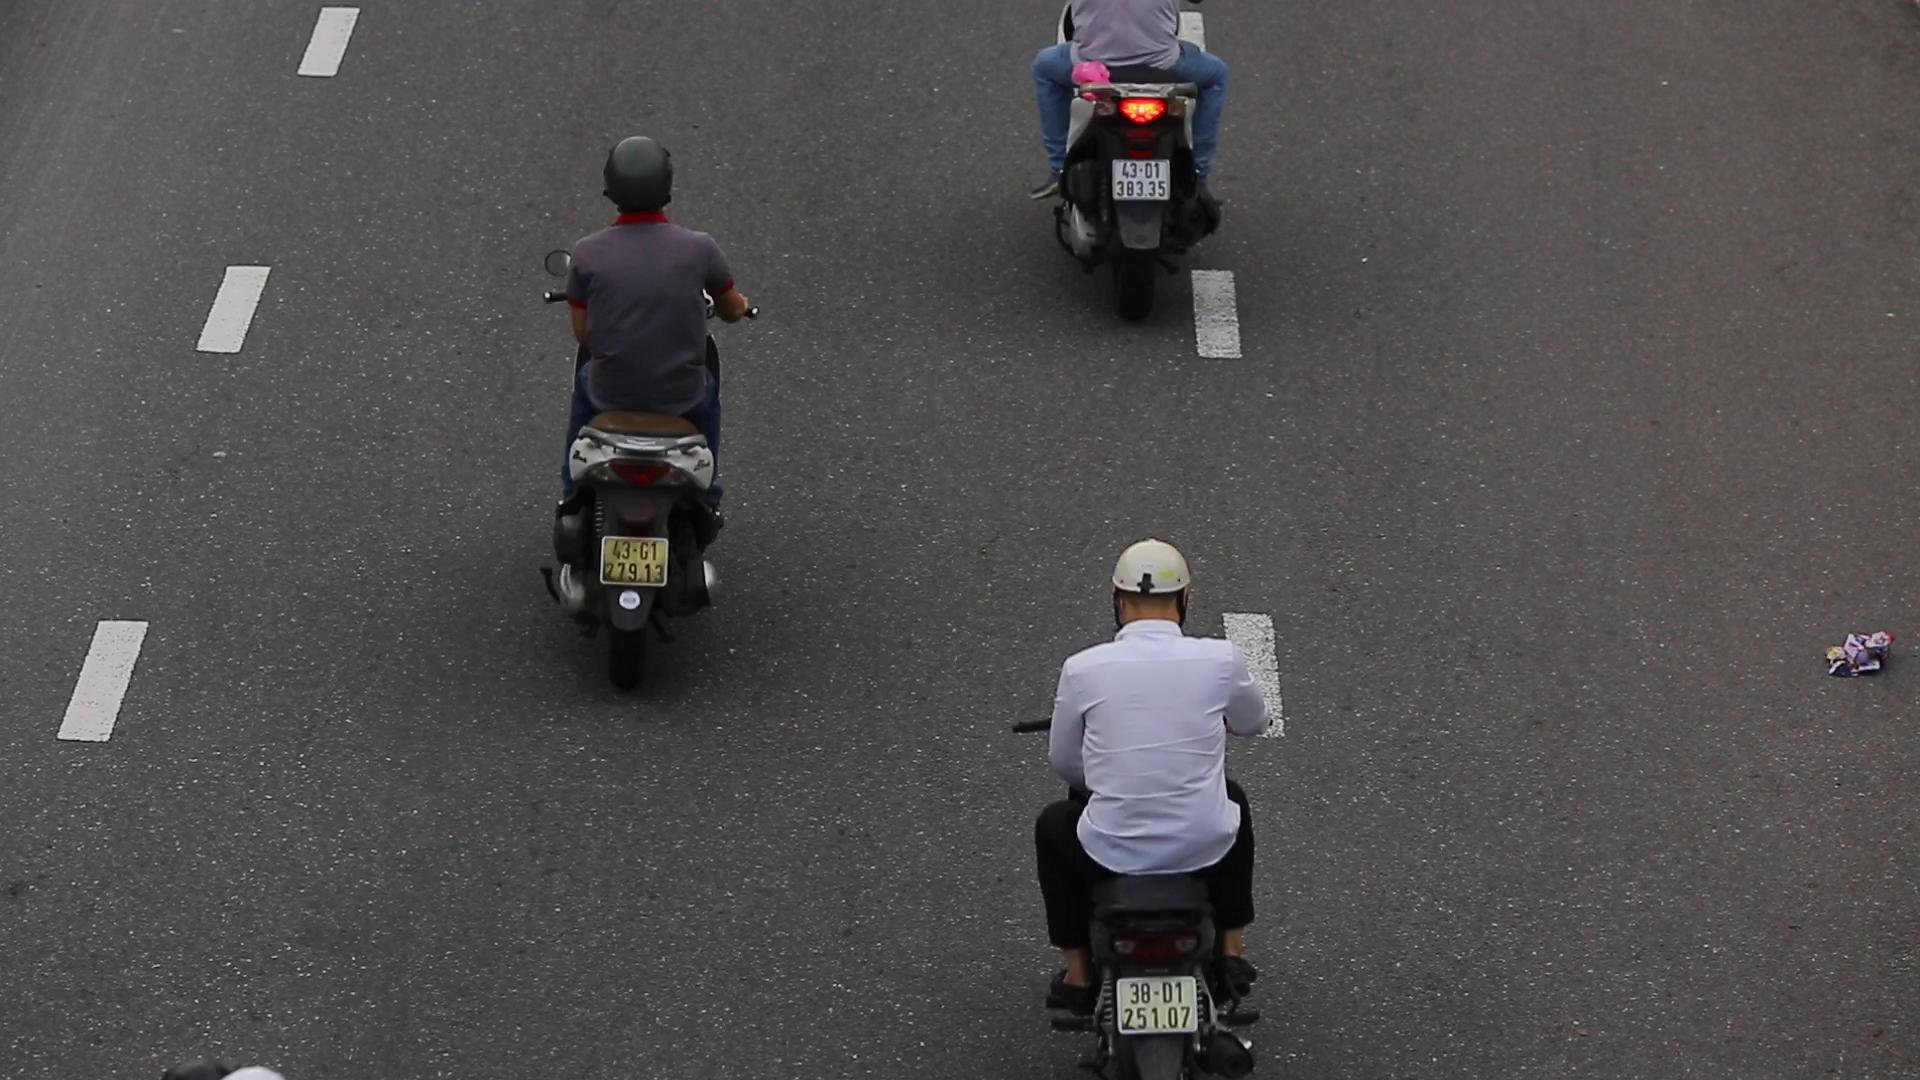motobike: (1010, 525, 1311, 1080), (537, 127, 767, 690)
